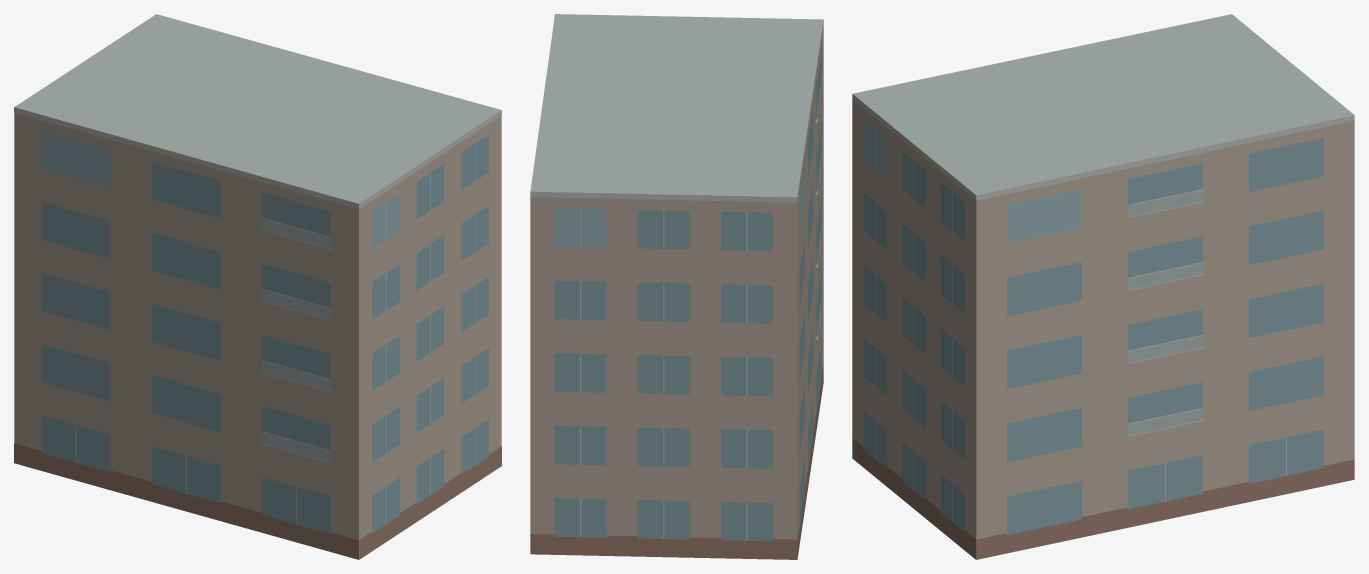
File: survey-upis-32985467.glb
3 renders of one model, left to right at view 1: azimuth 30°, elevation 25°; view 2: azimuth 150°, elevation 25°; view 3: azimuth 270°, elevation 25°, orthographic. The views are drawn at different scales.
Parts seen in each view (by area): view 1: survey-upis-32985467.tmp; view 2: survey-upis-32985467.tmp; view 3: survey-upis-32985467.tmp.
Part boxes in pixels (left/top/right/bottom): survey-upis-32985467.tmp: left=14, top=14, right=501, bottom=559; survey-upis-32985467.tmp: left=530, top=14, right=823, bottom=559; survey-upis-32985467.tmp: left=852, top=14, right=1354, bottom=559.
Size of the model in its own units: 17.33 by 16.24 by 20.29.
